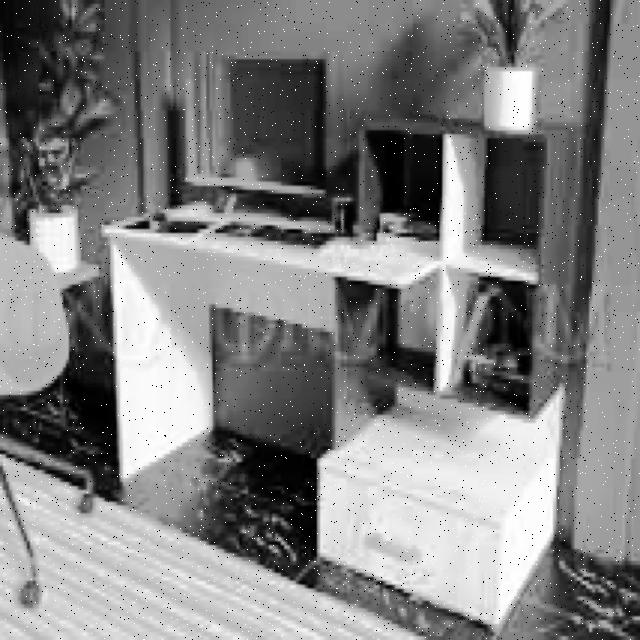book: (0, 217, 99, 608)
table: (99, 229, 437, 527)
